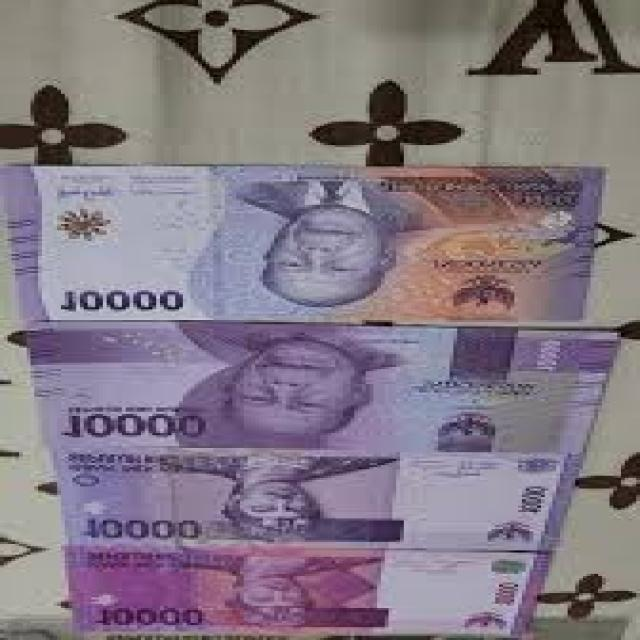sepuluh ribu rupiah: (38, 162, 598, 322), (27, 319, 621, 454), (52, 447, 588, 551), (63, 545, 554, 639)
